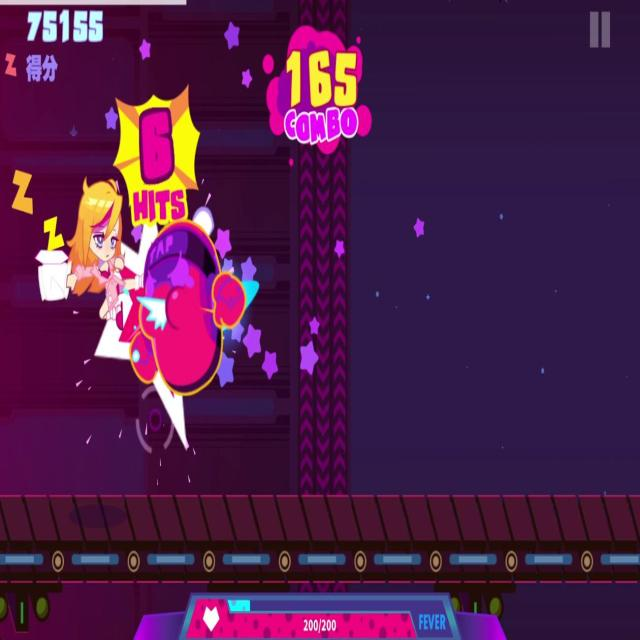tapboss: (126, 214, 259, 385)
